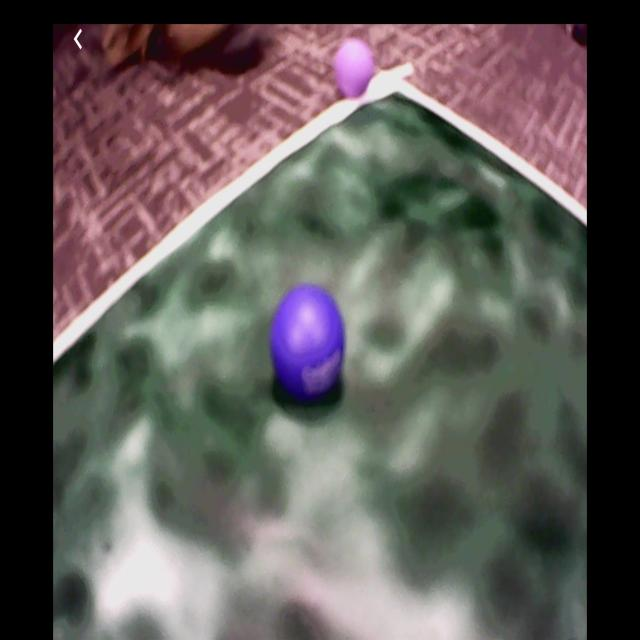ball: (271, 287, 345, 399), (335, 37, 375, 103)
